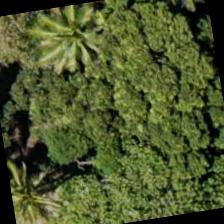Kelapa_Sawit: (19, 0, 121, 91), (6, 147, 78, 223)
